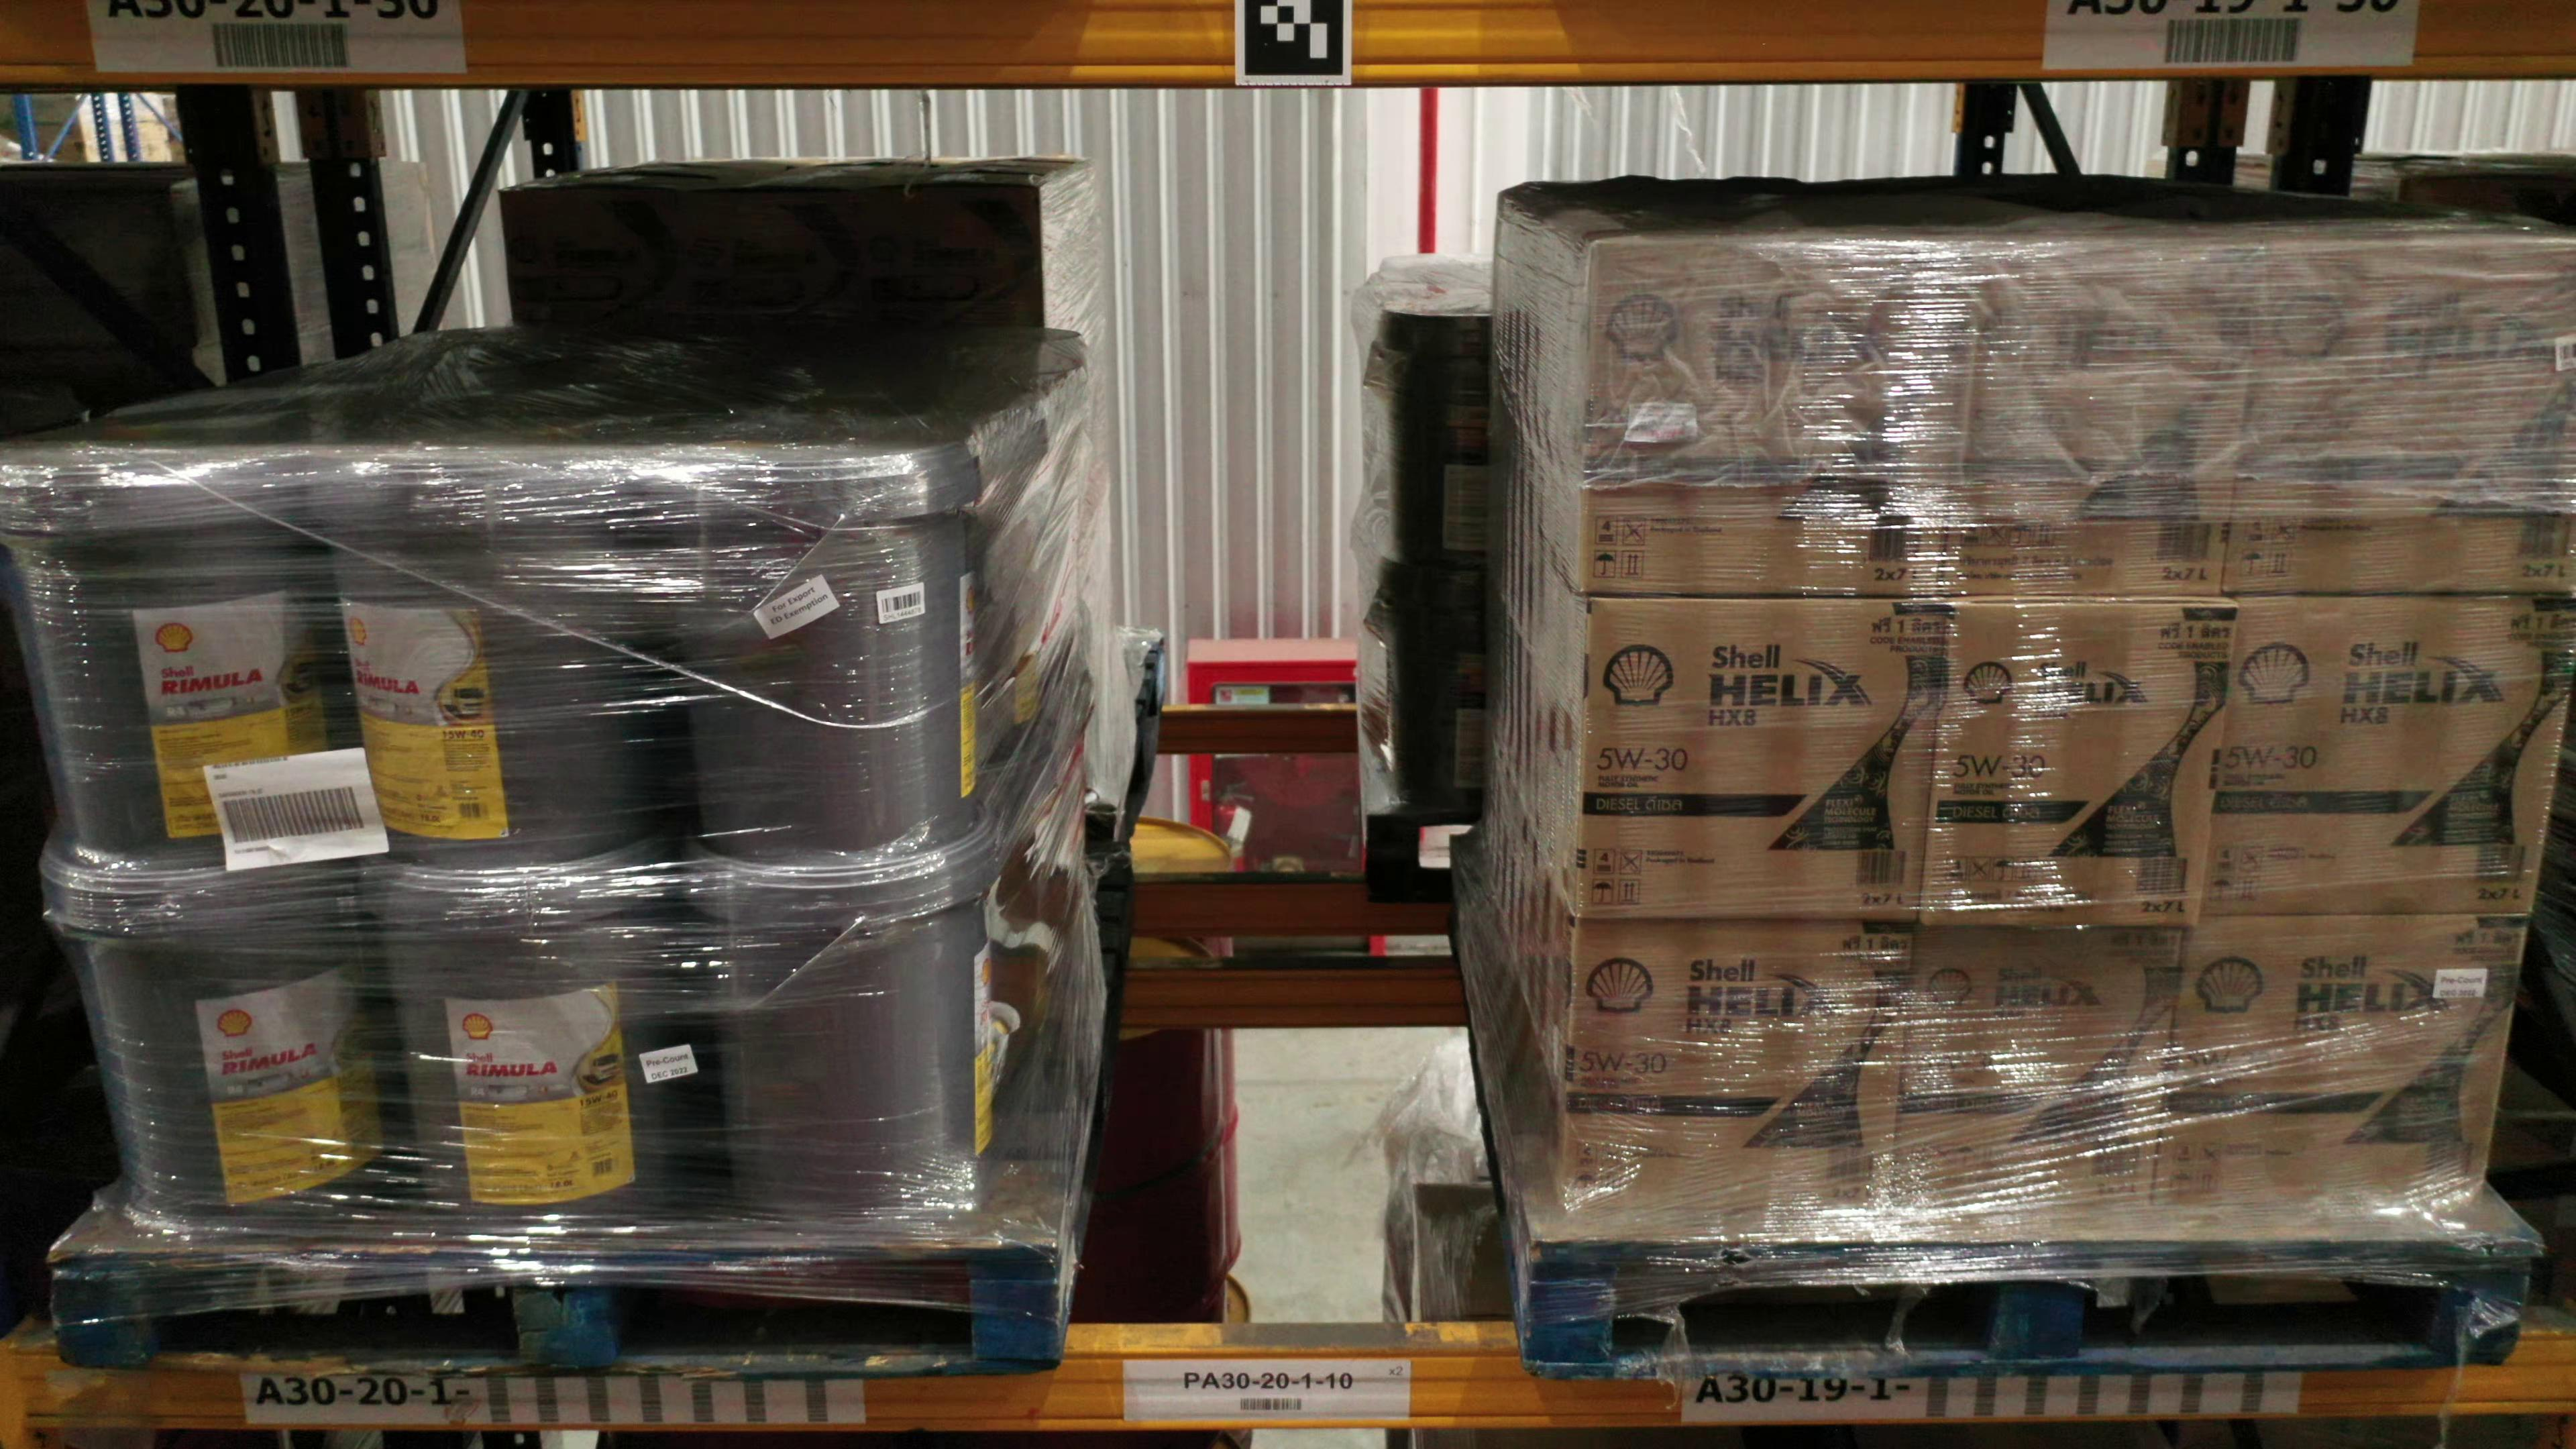-: (317, 442, 715, 860), (41, 840, 423, 1233), (1578, 237, 1976, 603), (2224, 211, 2576, 594), (663, 442, 977, 855), (382, 851, 729, 1217), (2153, 916, 2526, 1242), (2204, 594, 2576, 916), (690, 830, 996, 1217), (1582, 596, 1943, 922), (1951, 232, 2265, 594), (1560, 918, 1913, 1240), (1921, 598, 2235, 925), (1891, 925, 2189, 1242)
box: (862, 188, 1044, 345), (679, 186, 863, 341), (501, 188, 692, 333)
